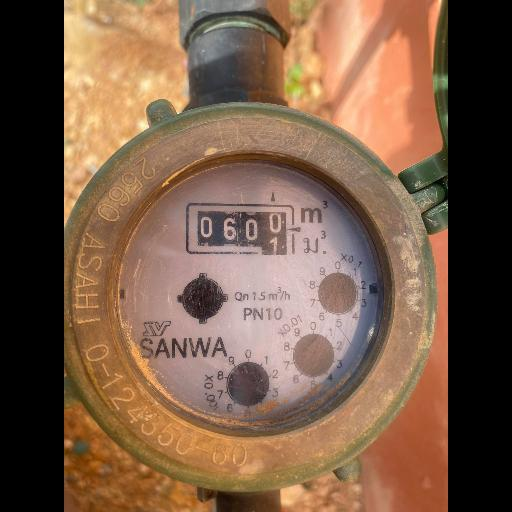0: (261, 212, 287, 255), (198, 212, 219, 247), (242, 212, 263, 247)
6: (218, 211, 243, 247)
border_water_meter_number: (185, 203, 295, 256)
